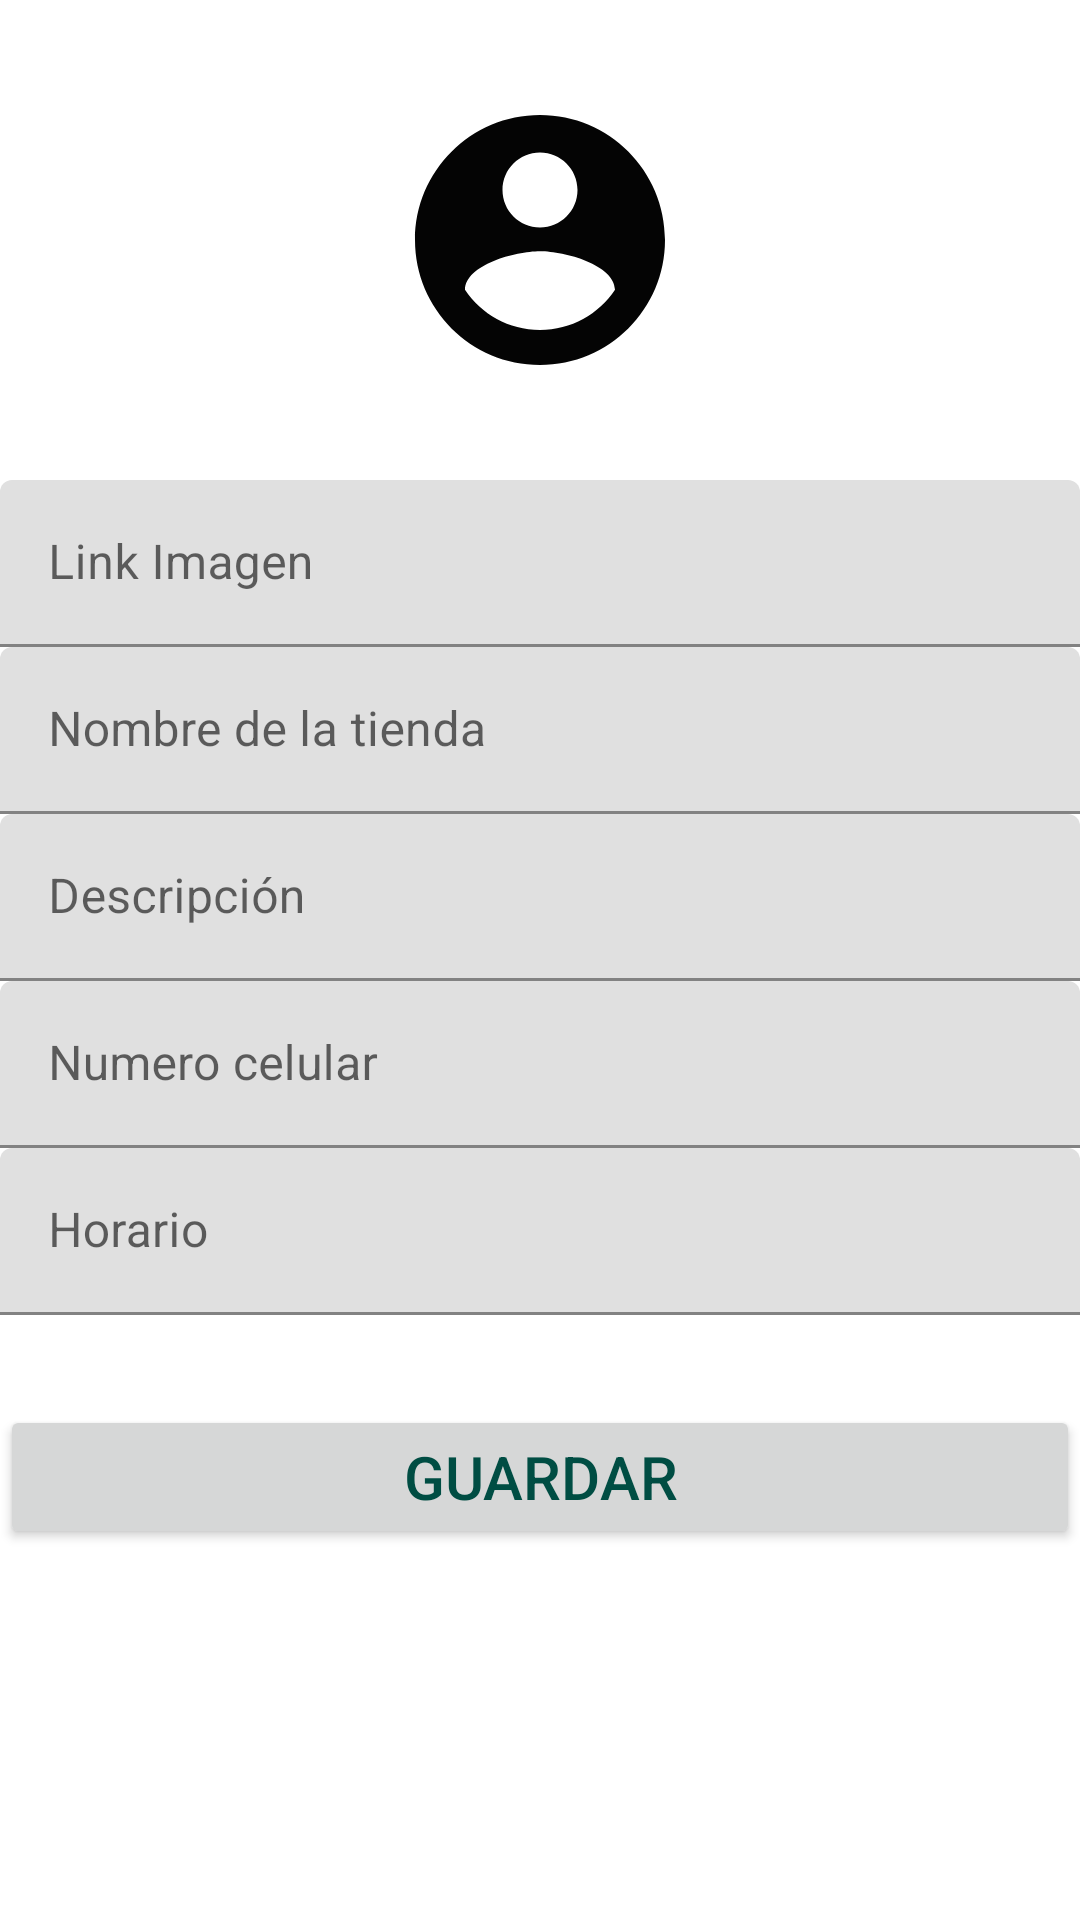

Named icons in this screenshot (1080w x 1920h) and their bounding boxes, (left=x1, top=y1, right=x2, bottom=y2):
account circle: (left=415, top=115, right=665, bottom=365)
